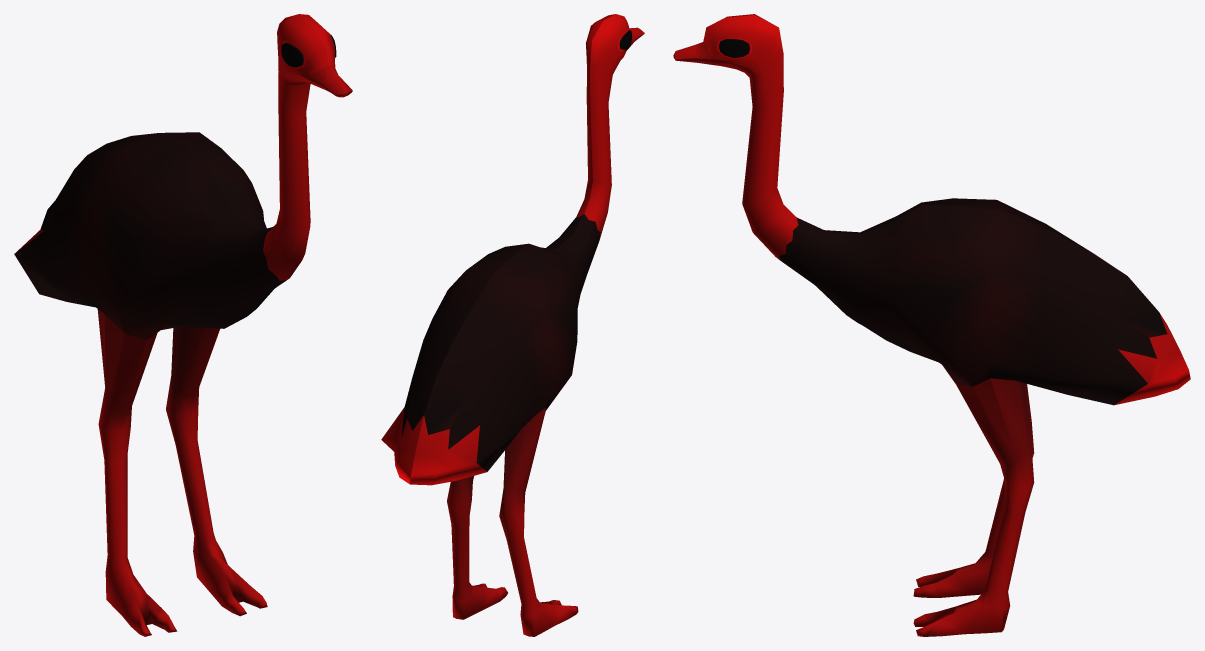
The model's file is BirdsUpright_Ostrich.fbx.
3 renders of one model, left to right at view 1: azimuth 30°, elevation 25°; view 2: azimuth 150°, elevation 25°; view 3: azimuth 270°, elevation 25°, orthographic. The views are drawn at different scales.
Parts seen in each view (by area): view 1: base; view 2: base; view 3: base.
Boxes of the visible parts, box(x1,y1,x2,y2) form: base: box(14, 14, 352, 636); base: box(381, 14, 644, 636); base: box(673, 14, 1190, 636).
Bounding box in the file's own units: 52.21 × 223 × 176.
